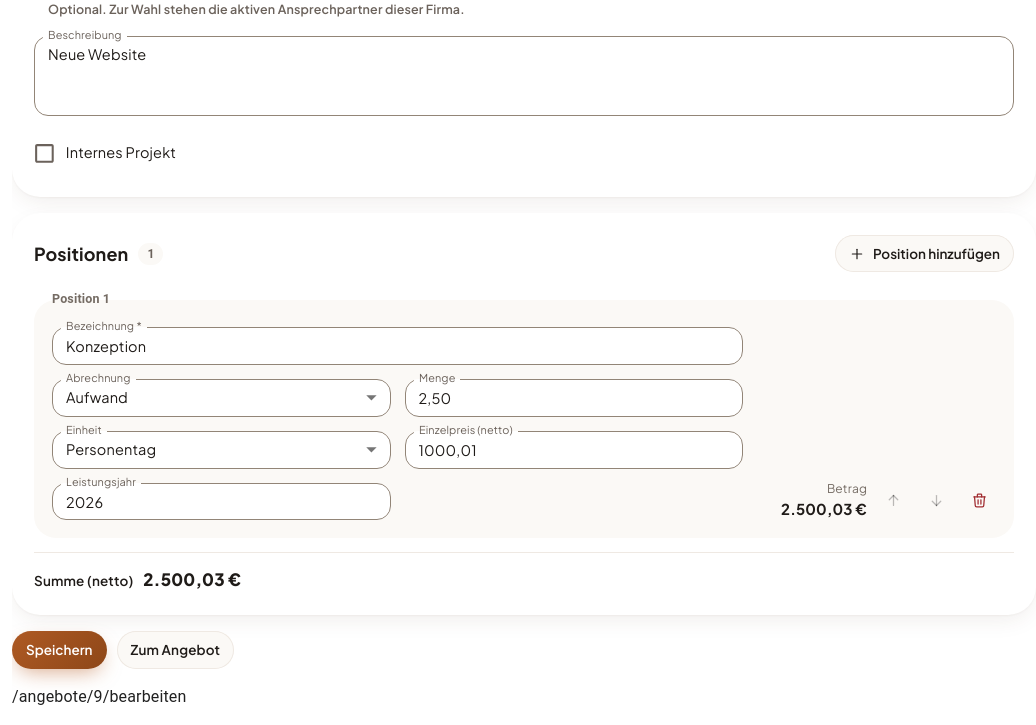
Test: AngebotMaske — das Angebot bearbeiten (Issue #127, Kriterium 5) › oeffnet und speichert das Angebot im Status ANGELEGT
(page scrolled)
Click the button "Speichern" at {"x": 59, "y": 650}, box [12,631,106,669]
(page scrolled)
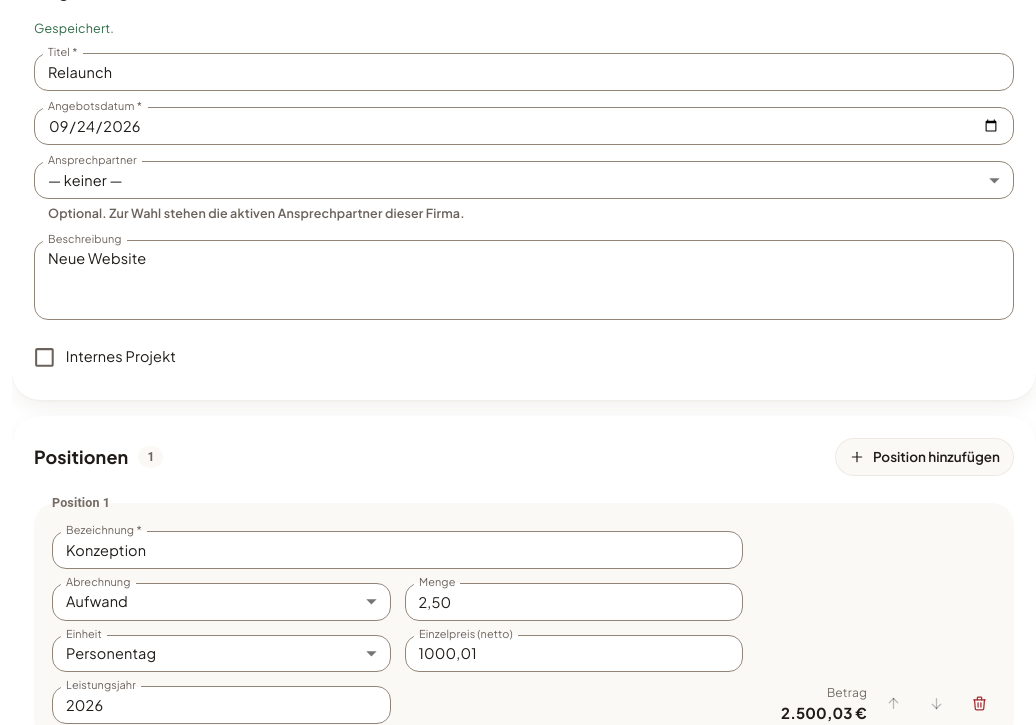
Expected: the message shows "Gespeichert", [34,20,114,36]
